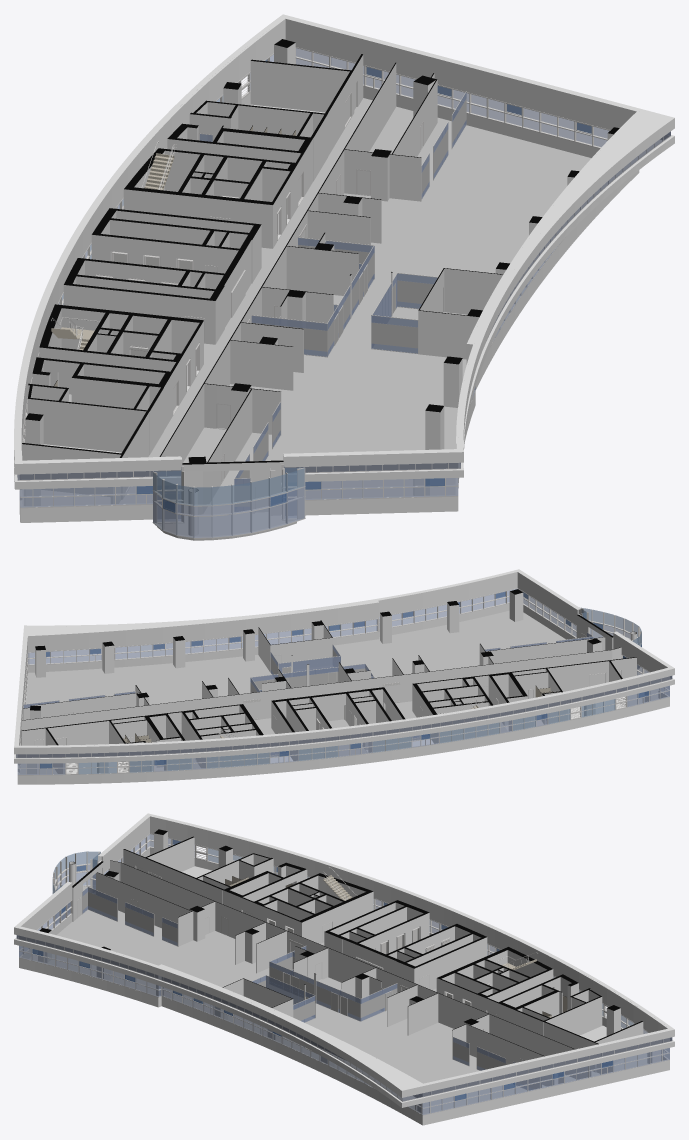
The picture shows the model from 3 angles, top to bottom: view 1: azimuth 30°, elevation 25°; view 2: azimuth 150°, elevation 25°; view 3: azimuth 270°, elevation 25°; orthographic projection. The views are drawn at different scales.
Visible parts, largest first — view 1: A1-17F-Wall1, A1-17F-Floor, A1-17F-In Dry Wall, A1-17F-Dry Wall, A1-17F-Glass1, A1-17F-Glass Wall, A1-17F-Column, A1-17F-Frame, A1-17F-Door, A1-17F-Glass2, A1-17F-Glass4, A1-17F-Wall2 (+3 smaller); view 2: A1-17F-Wall1, A1-17F-In Dry Wall, A1-17F-Floor, A1-17F-Dry Wall, A1-17F-Frame, A1-17F-Glass1, A1-17F-Glass2, A1-17F-Column, A1-17F-Glass4, A1-17F-Glass Wall, A1-17F-Door, A1-17F-Glass3 (+2 smaller); view 3: A1-17F-Wall1, A1-17F-In Dry Wall, A1-17F-Floor, A1-17F-Dry Wall, A1-17F-Glass1, A1-17F-Glass Wall, A1-17F-Frame, A1-17F-Column, A1-17F-Glass4, A1-17F-Door, A1-17F-Glass2, A1-17F-Glass3 (+3 smaller).
Part boxes in pixels (x1=…): A1-17F-Wall1: x1=21, y1=54, x2=503, y2=514; A1-17F-Floor: x1=22, y1=98, x2=591, y2=540; A1-17F-In Dry Wall: x1=19, y1=17, x2=639, y2=522; A1-17F-Dry Wall: x1=14, y1=14, x2=674, y2=489; A1-17F-Glass1: x1=19, y1=48, x2=608, y2=537; A1-17F-Glass Wall: x1=234, y1=91, x2=466, y2=511; A1-17F-Column: x1=24, y1=39, x2=619, y2=535; A1-17F-Frame: x1=17, y1=47, x2=670, y2=538; A1-17F-Door: x1=119, y1=82, x2=443, y2=512; A1-17F-Glass2: x1=62, y1=96, x2=304, y2=505; A1-17F-Glass4: x1=17, y1=131, x2=670, y2=480; A1-17F-Wall2: x1=182, y1=460, x2=283, y2=515; A1-17F-Wall1: x1=21, y1=620, x2=636, y2=773; A1-17F-In Dry Wall: x1=17, y1=571, x2=669, y2=784; A1-17F-Floor: x1=20, y1=610, x2=658, y2=773; A1-17F-Dry Wall: x1=14, y1=569, x2=674, y2=763; A1-17F-Frame: x1=16, y1=588, x2=672, y2=775; A1-17F-Glass1: x1=17, y1=588, x2=669, y2=774; A1-17F-Glass2: x1=78, y1=607, x2=641, y2=774; A1-17F-Column: x1=27, y1=589, x2=657, y2=773; A1-17F-Glass4: x1=16, y1=676, x2=672, y2=757; A1-17F-Glass Wall: x1=23, y1=632, x2=593, y2=708; A1-17F-Door: x1=34, y1=633, x2=621, y2=760; A1-17F-Glass3: x1=40, y1=591, x2=648, y2=768; A1-17F-Wall1: x1=96, y1=836, x2=643, y2=1086; A1-17F-In Dry Wall: x1=19, y1=815, x2=669, y2=1125; A1-17F-Floor: x1=29, y1=866, x2=647, y2=1112; A1-17F-Dry Wall: x1=14, y1=813, x2=674, y2=1107; A1-17F-Glass1: x1=19, y1=834, x2=669, y2=1114; A1-17F-Glass Wall: x1=82, y1=887, x2=541, y2=1090; A1-17F-Frame: x1=16, y1=833, x2=671, y2=1115; A1-17F-Column: x1=38, y1=829, x2=660, y2=1113; A1-17F-Glass4: x1=16, y1=935, x2=672, y2=1101; A1-17F-Door: x1=77, y1=866, x2=602, y2=1073; A1-17F-Glass2: x1=52, y1=848, x2=633, y2=1028; A1-17F-Glass3: x1=32, y1=839, x2=613, y2=1100.
Bounding box in the file's own units: 71.25 × 5.2 × 71.71.
